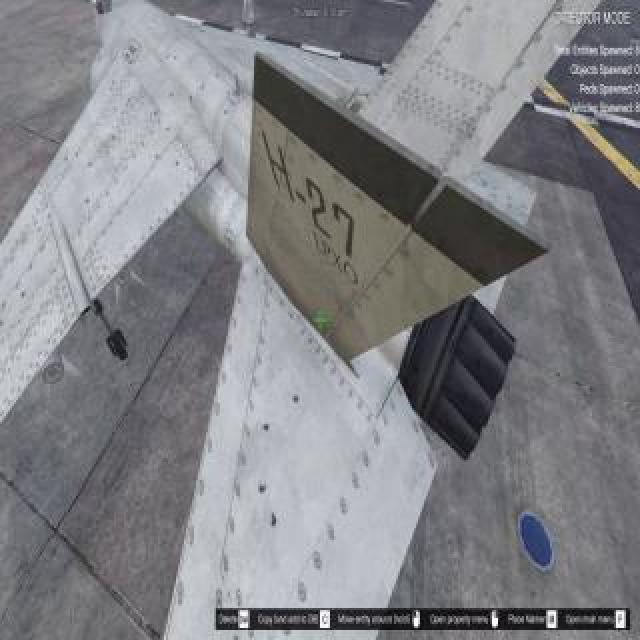crack: (257, 481, 271, 497), (270, 513, 282, 529), (293, 393, 303, 407), (262, 422, 272, 432), (88, 161, 96, 169), (176, 160, 182, 168), (86, 197, 92, 205), (64, 156, 70, 164), (75, 152, 81, 160), (166, 126, 172, 134), (155, 153, 161, 161), (169, 92, 175, 100), (224, 109, 230, 117), (216, 73, 222, 81), (189, 96, 195, 104), (112, 134, 118, 142), (201, 85, 207, 91), (173, 56, 179, 62), (167, 55, 171, 61), (110, 88, 116, 92), (151, 20, 157, 24), (113, 82, 117, 86), (150, 27, 154, 31), (177, 28, 179, 34)
